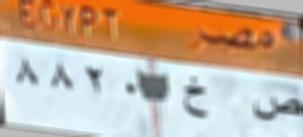0: (117, 75, 142, 103)
2: (80, 60, 112, 102)
8: (14, 55, 42, 92), (44, 63, 74, 96)
khaa: (182, 73, 213, 120)
saad: (247, 84, 302, 131)
